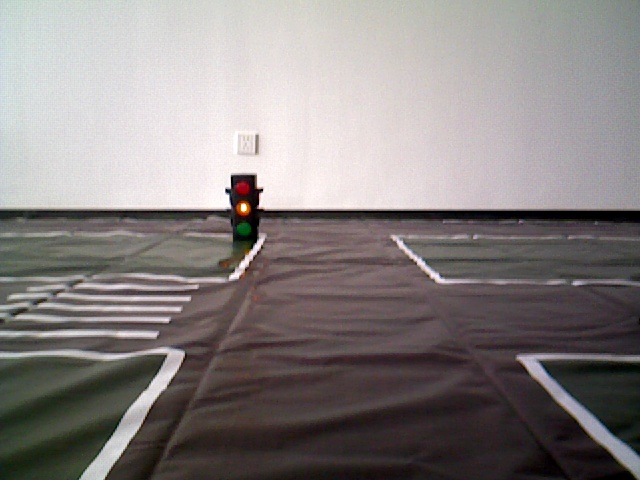yellow: (229, 175, 260, 242)
